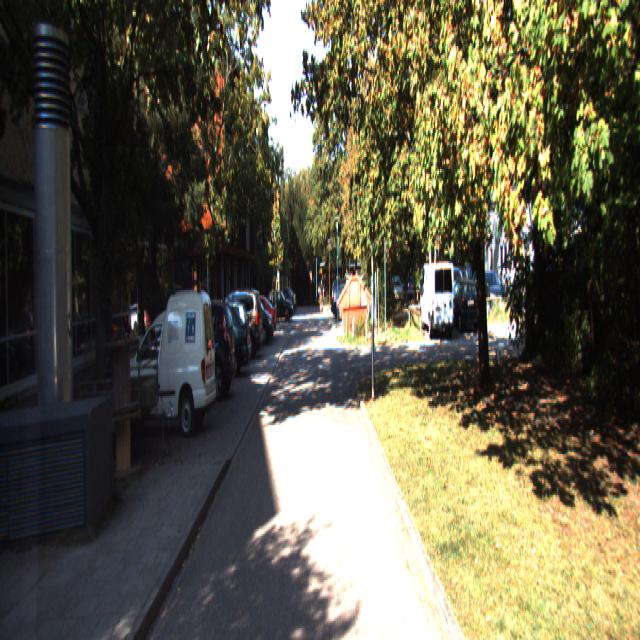Car: (114, 284, 217, 441), (154, 297, 238, 406), (186, 302, 252, 378), (203, 287, 264, 361), (199, 298, 250, 368), (419, 259, 456, 339), (447, 276, 480, 333)
DontCare: (330, 274, 416, 315), (258, 277, 298, 338), (480, 261, 509, 313)
